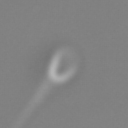normal: (10, 78, 52, 128)
